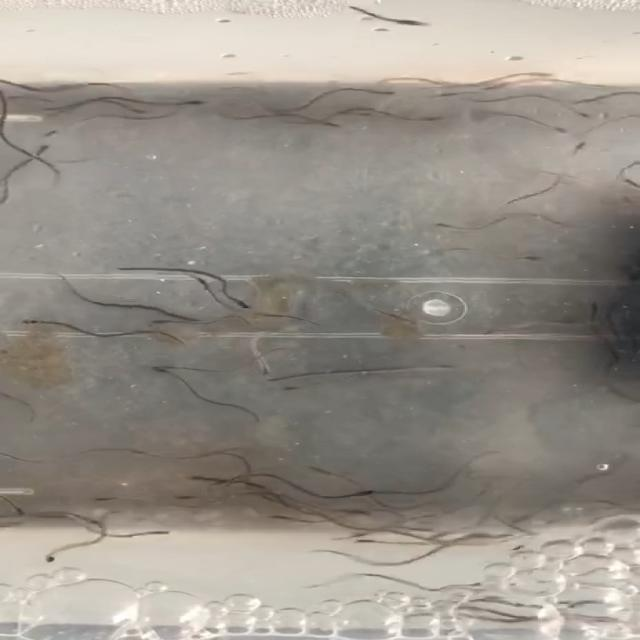active_glass_eel: (17, 136, 58, 160), (554, 136, 602, 156), (295, 112, 341, 132), (331, 501, 380, 519), (106, 96, 146, 118), (472, 574, 520, 592), (250, 354, 281, 380), (361, 84, 404, 102), (563, 102, 597, 124), (34, 124, 80, 140), (387, 15, 430, 32), (427, 216, 470, 232), (566, 596, 615, 610), (86, 491, 124, 508), (170, 95, 216, 109), (305, 464, 349, 478), (260, 510, 301, 525), (32, 548, 64, 567), (134, 525, 174, 540), (0, 503, 36, 519), (146, 359, 190, 372), (431, 87, 471, 101), (14, 315, 57, 328), (574, 615, 617, 628), (418, 113, 455, 128), (144, 367, 190, 379), (227, 291, 253, 312), (398, 525, 437, 539), (516, 252, 550, 267), (482, 323, 516, 338), (342, 108, 384, 120), (496, 538, 532, 552), (165, 491, 202, 504), (548, 124, 580, 139), (582, 299, 605, 319), (344, 536, 382, 548), (190, 473, 220, 488), (344, 488, 384, 499), (519, 66, 552, 79), (274, 384, 313, 395), (144, 315, 175, 328), (384, 316, 423, 326)
